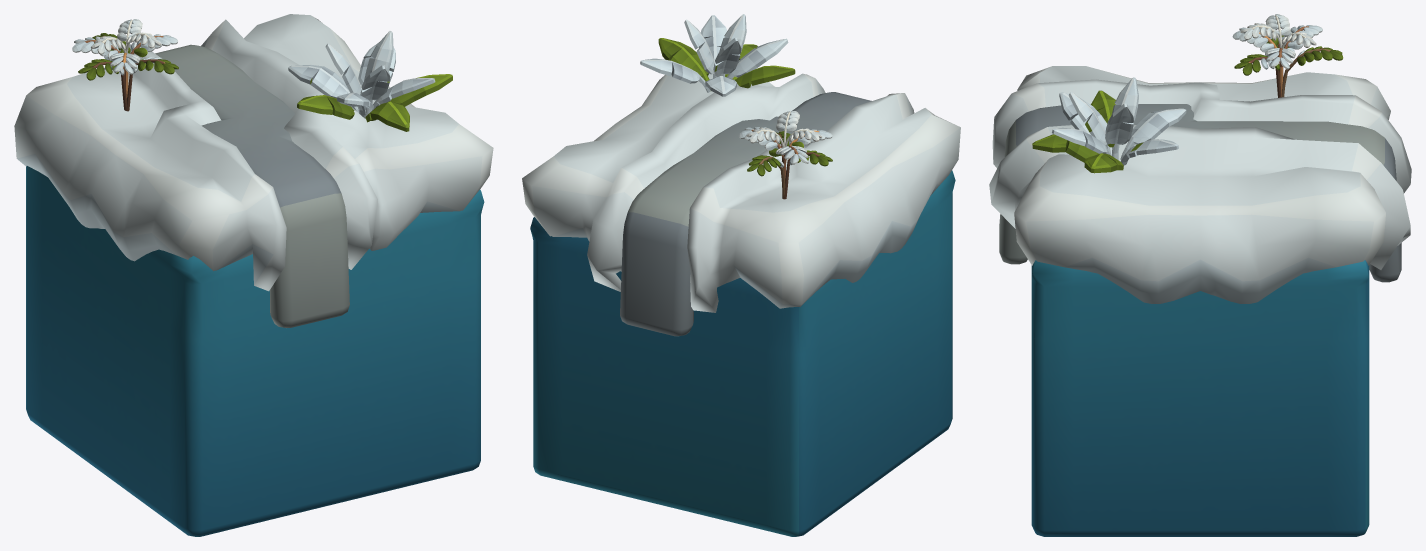
File: Winter9.fbx
3 views of the same model, side by side, from view 1: azimuth 30°, elevation 25°; view 2: azimuth 150°, elevation 25°; view 3: azimuth 270°, elevation 25° (orthographic). The views are drawn at different scales.
Visible parts, largest first — view 1: Winter9, Winter_Cube3.001, Road9.002, Winter_Cube_09 .001; view 2: Winter9, Winter_Cube3.001, Road9.002, Winter_Cube_09 .001; view 3: Winter9, Winter_Cube3.001, Winter_Cube_09 .001, Road9.002.
Part boxes in pixels (x1,y1,x2,y2): Winter9: [26, 166, 484, 536]; Winter_Cube3.001: [14, 14, 493, 291]; Road9.002: [155, 44, 349, 327]; Winter_Cube_09 .001: [72, 19, 452, 131]; Winter9: [530, 170, 955, 536]; Winter_Cube3.001: [522, 73, 960, 312]; Road9.002: [620, 92, 871, 336]; Winter_Cube_09 .001: [640, 14, 832, 199]; Winter9: [1031, 260, 1369, 536]; Winter_Cube3.001: [989, 66, 1411, 303]; Winter_Cube_09 .001: [1032, 14, 1343, 173]; Road9.002: [999, 104, 1401, 282].
Size of the model in its own units: 110 by 135 by 125.
